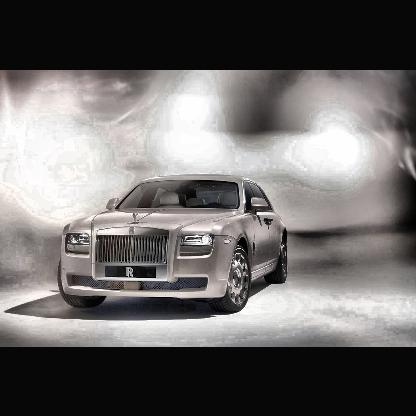Rolls-Royce Ghost Sedan 2012: (59, 174, 290, 312)
